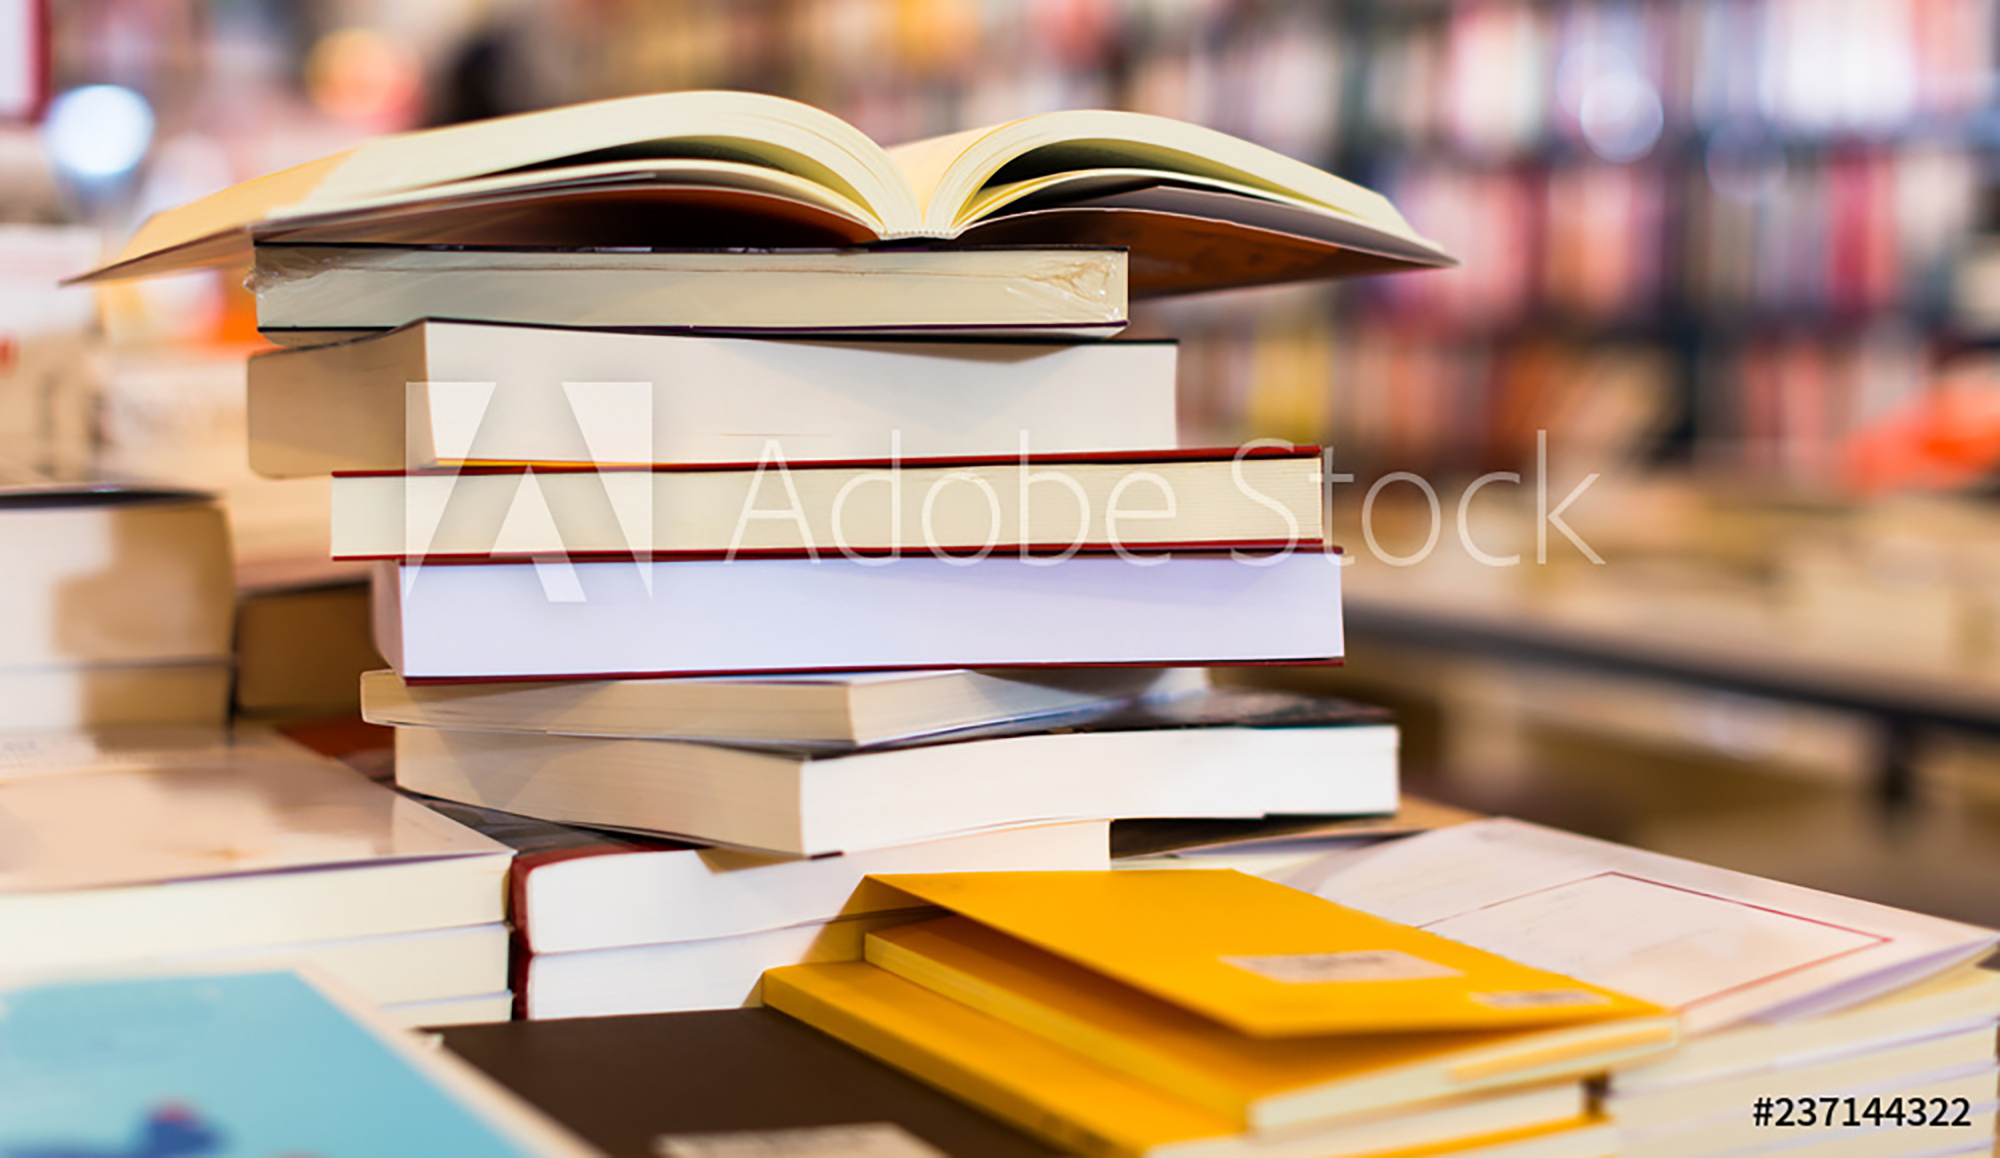book: (91, 62, 2000, 1158)
